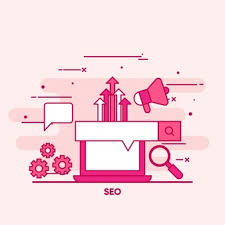searchIcon: (148, 145, 184, 179), (163, 124, 177, 138)
